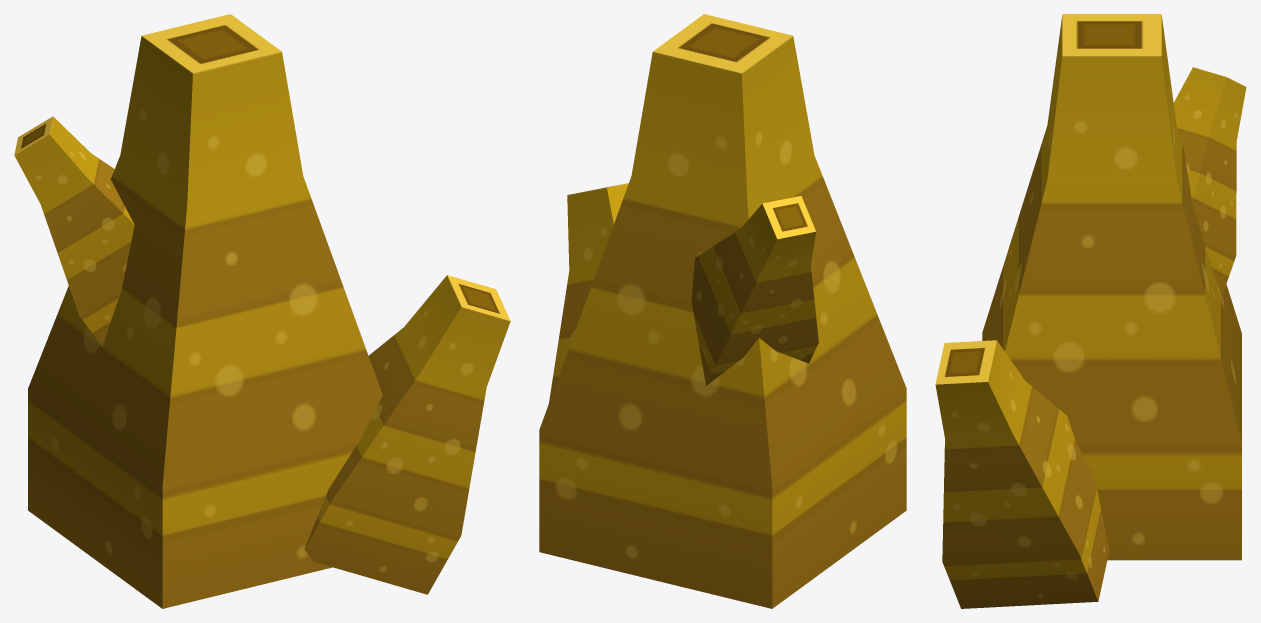
The model's file is BG_011_coral.FBX.
3 renders of one model, left to right at view 1: azimuth 30°, elevation 25°; view 2: azimuth 150°, elevation 25°; view 3: azimuth 270°, elevation 25°, orthographic. The views are drawn at different scales.
Visible parts, largest first — view 1: coral_01, coral_02, coral_03; view 2: coral_01, coral_03, coral_02; view 3: coral_01, coral_02, coral_03.
Boxes of the visible parts, left/top/right/bottom form: coral_01: left=28, top=14, right=382, bottom=608; coral_02: left=304, top=275, right=510, bottom=594; coral_03: left=14, top=116, right=134, bottom=346; coral_01: left=539, top=14, right=906, bottom=608; coral_03: left=691, top=196, right=818, bottom=385; coral_02: left=549, top=183, right=628, bottom=402; coral_01: left=982, top=14, right=1241, bottom=560; coral_02: left=935, top=340, right=1109, bottom=608; coral_03: left=1173, top=67, right=1246, bottom=296.
Size of the model in its own units: 282 by 389 by 216.
